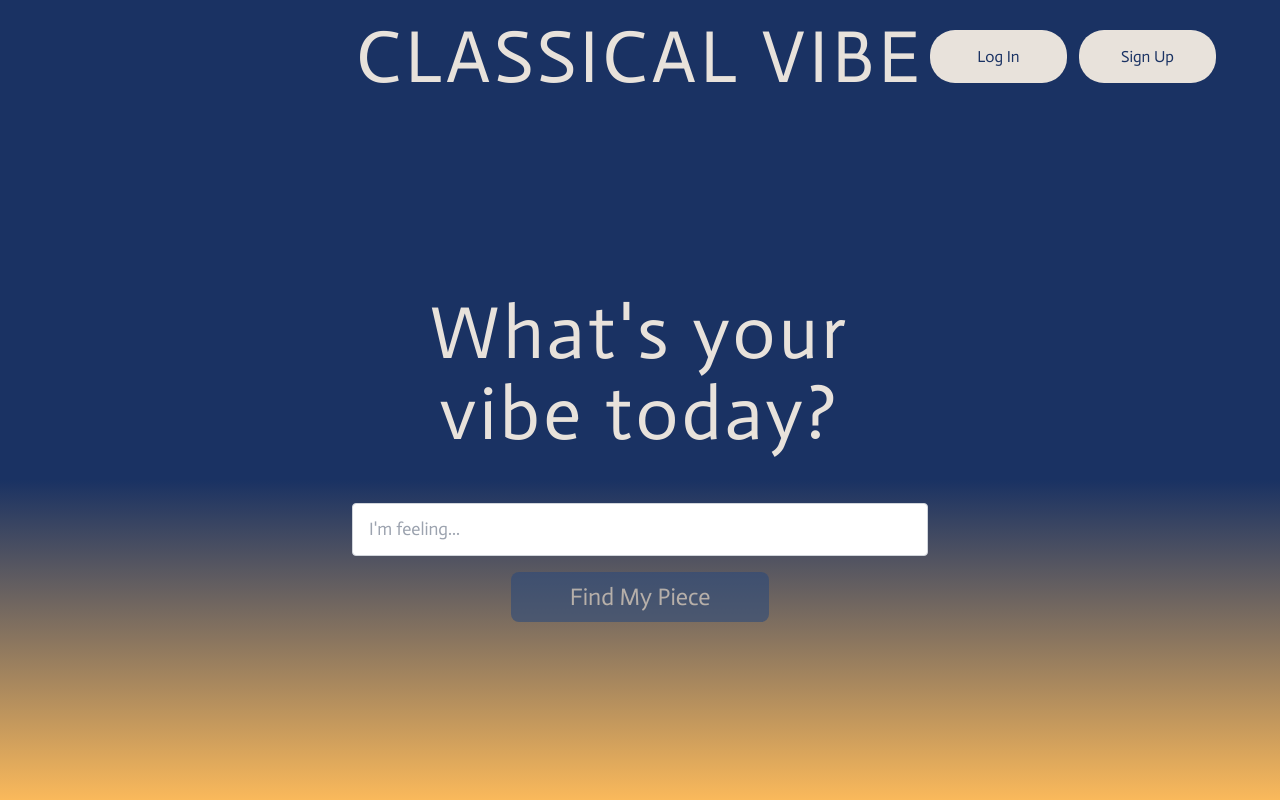
Test: LandingPage Component › shows loading state after submission
Type "peaceful" into the field with placeholder "I'm feeling..." at (640, 529), box [352,503,928,556]
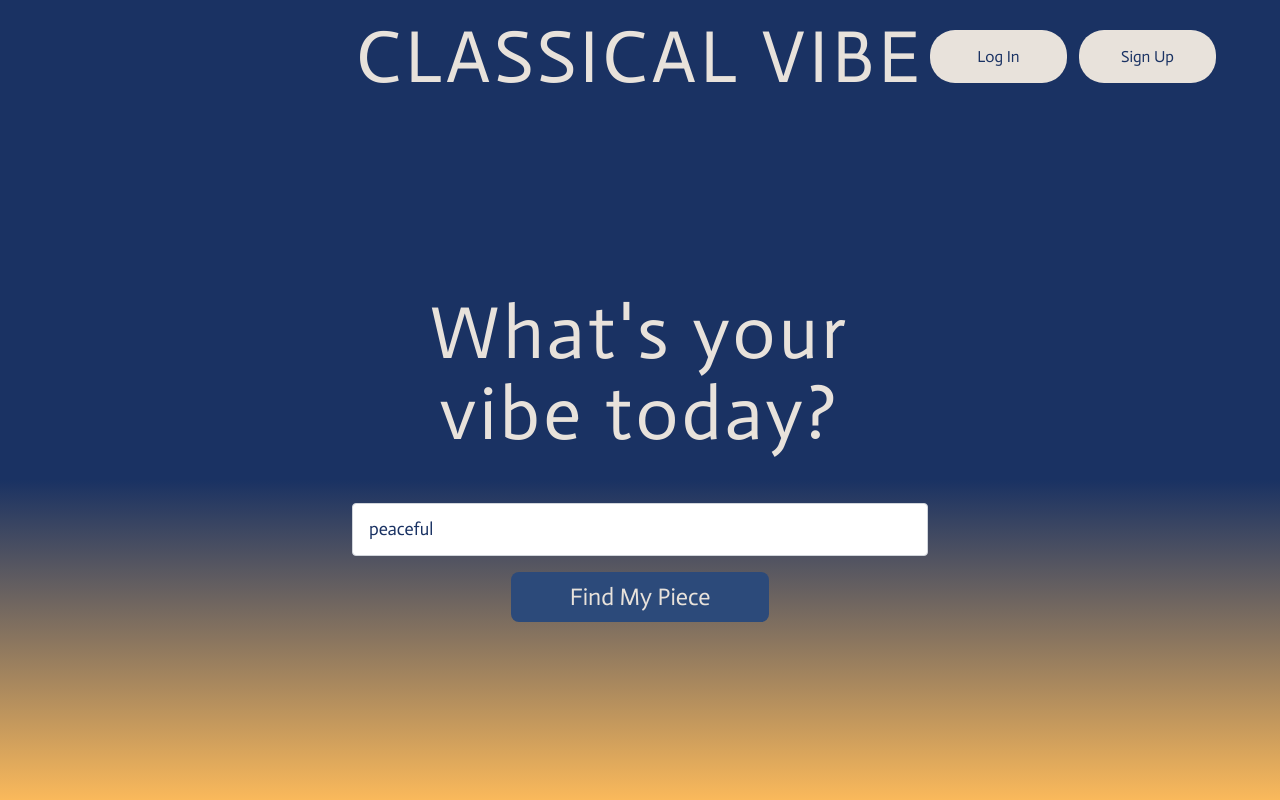
Click the button "Find My Piece" at (640, 597), box [511,572,769,622]
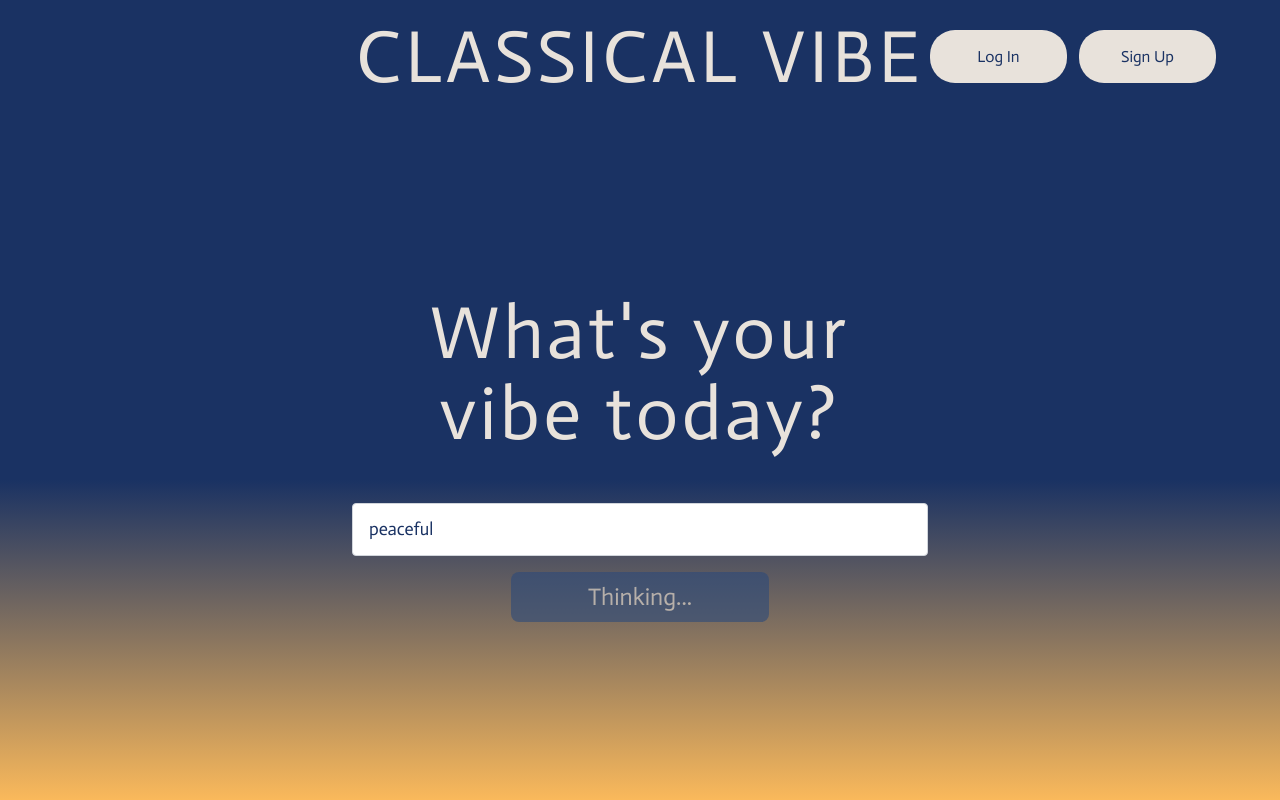
Expected: the button "Thinking..." is shown, [511,572,769,622]
